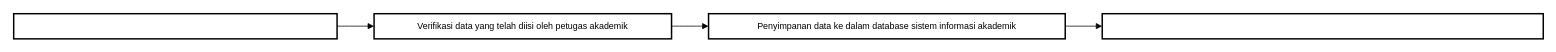
Image size: 1556x52. Some labels were removed from this diagram. Each missing label, with the centre of its shape:
Pengiriman notifikasi ke email petugas akademik tentang status pencatatan data: the point at 1322,26
Pengisian formulir pencatatan data oleh petugas akademik: the point at 175,26
